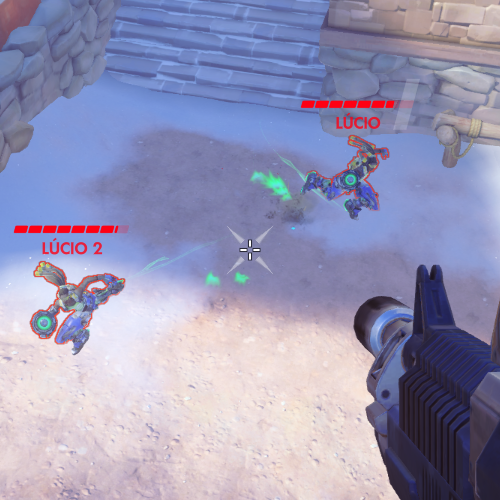hpbar: (13, 224, 130, 234), (300, 99, 414, 109)
